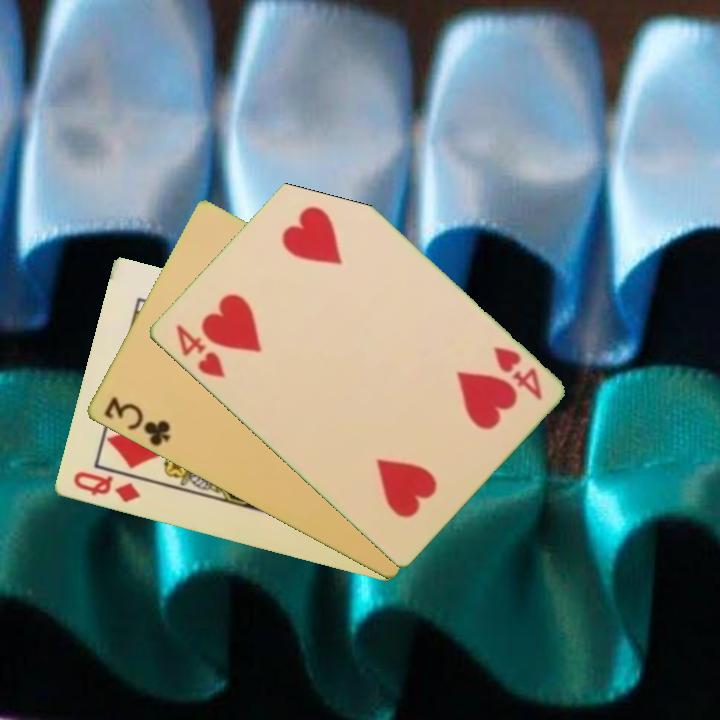3c: (99, 393, 173, 450)
4h: (172, 320, 228, 381), (489, 343, 545, 404)
Qd: (69, 468, 143, 506)
